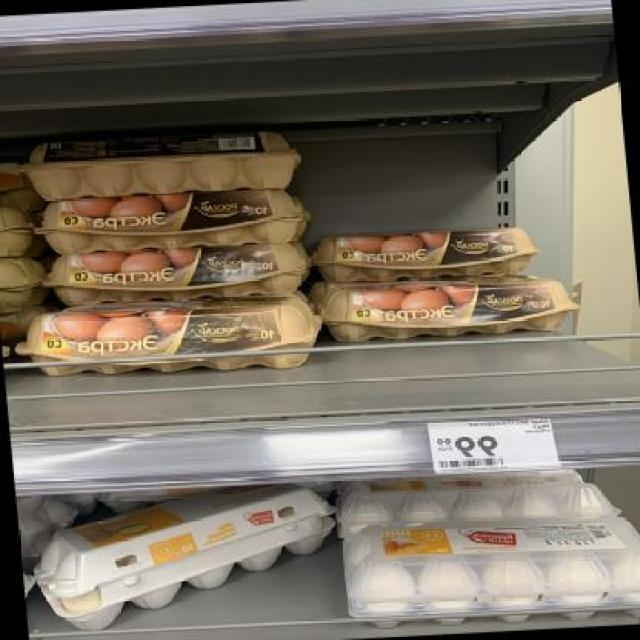Egg: (25, 484, 337, 634), (336, 512, 640, 631), (16, 294, 326, 384), (28, 182, 321, 258), (39, 240, 316, 312), (317, 270, 578, 345), (308, 222, 544, 286), (0, 156, 45, 216), (0, 255, 48, 311), (0, 202, 31, 260)
